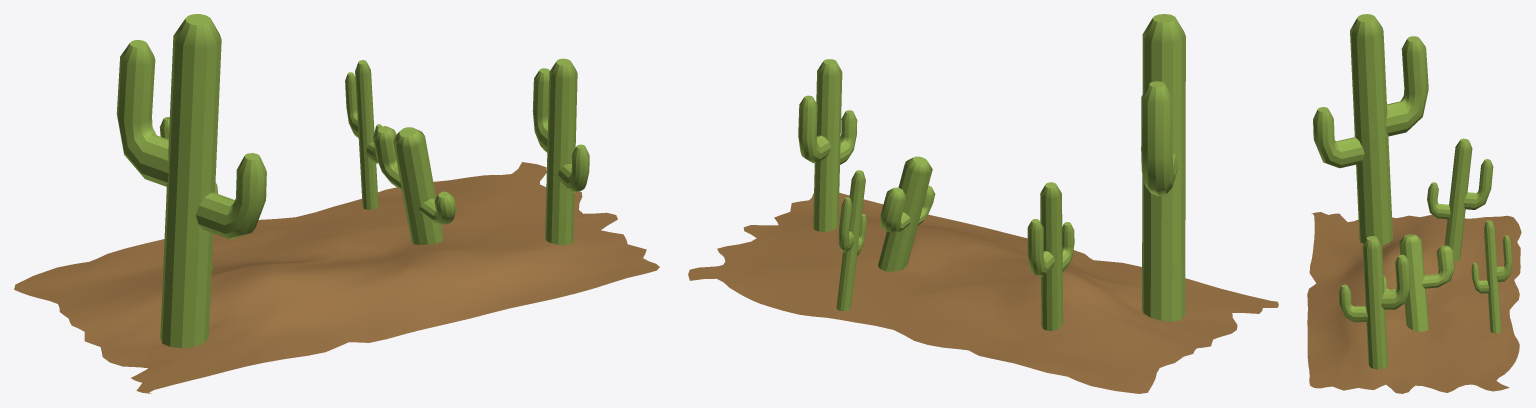
File: foreground3.fbx
3 renders of one model, left to right at view 1: azimuth 30°, elevation 25°; view 2: azimuth 150°, elevation 25°; view 3: azimuth 270°, elevation 25°, orthographic. The views are drawn at different scales.
Parts seen in each view (by area): view 1: cactus26; view 2: cactus26; view 3: cactus26.
Part boxes in pixels (<box>): cactus26: <box>14,14,659,393</box>; cactus26: <box>688,14,1278,393</box>; cactus26: <box>1307,14,1521,393</box>.
Bounding box in the file's own units: 398 × 231 × 197.
